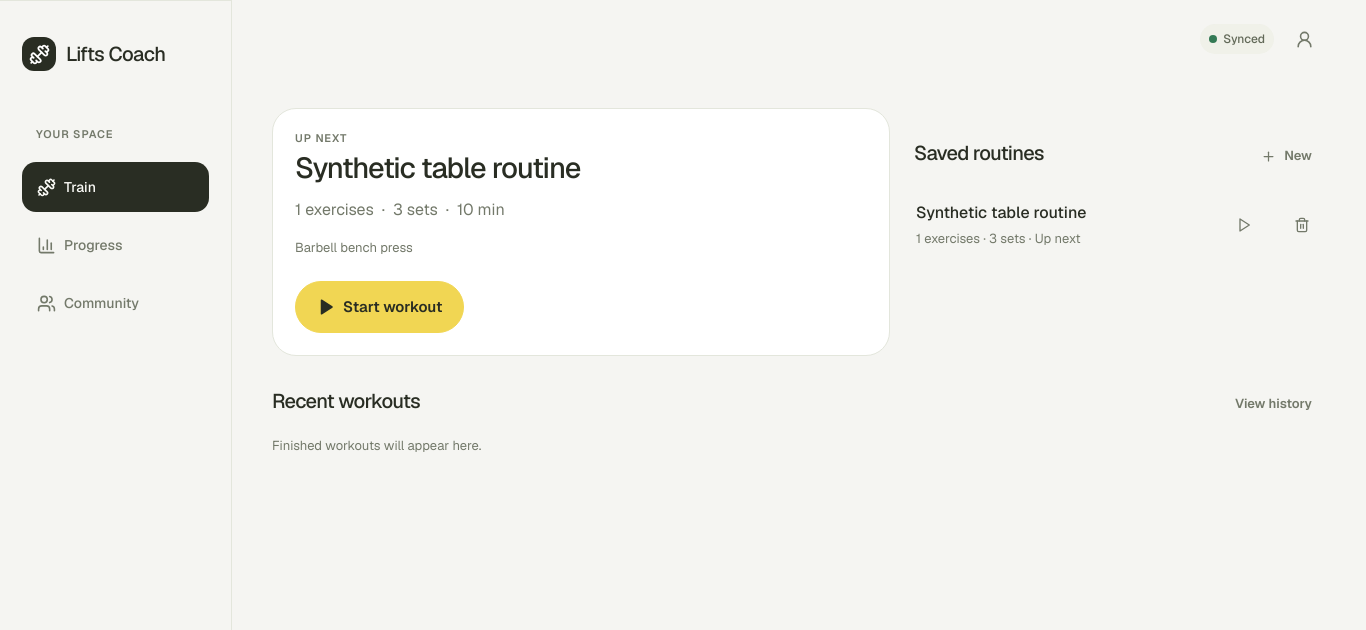
Scenario: workout set table › shows captured instructions read-only during training
Click the button "Start workout" at (380, 307), box [295,281,464,333]
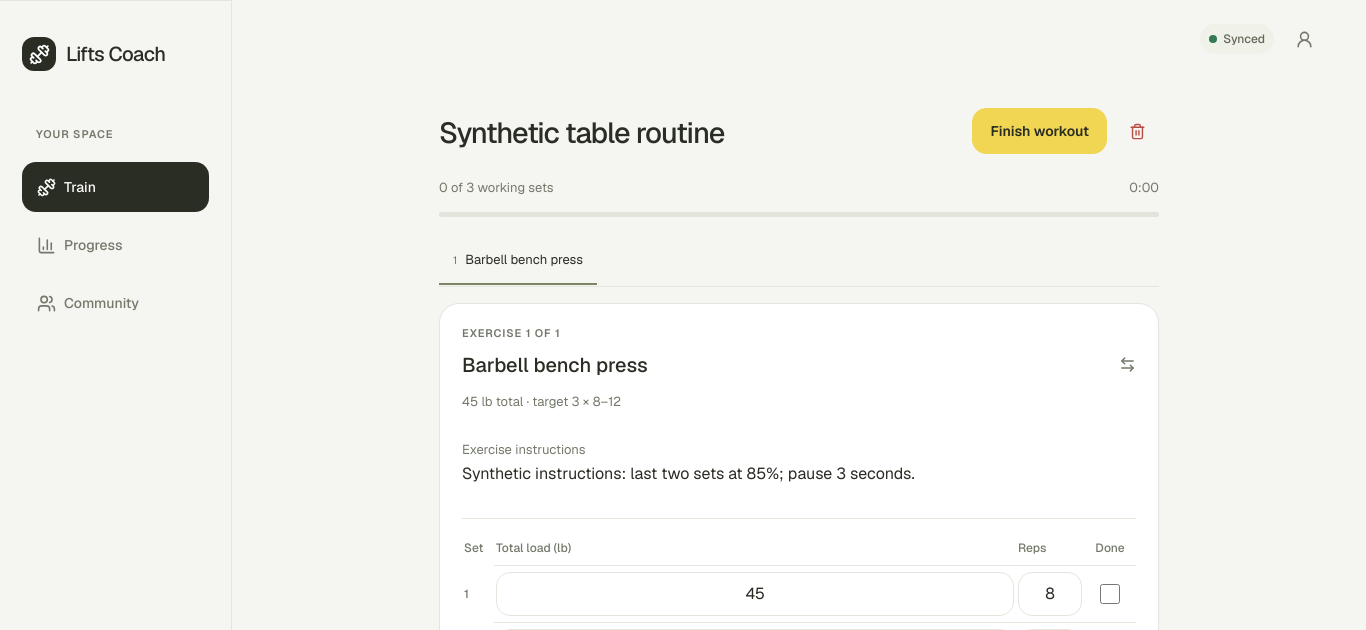
Check: the text "Synthetic instructions: last two sets at 85%; pause 3 seconds." is shown, box [462,463,915,484]
